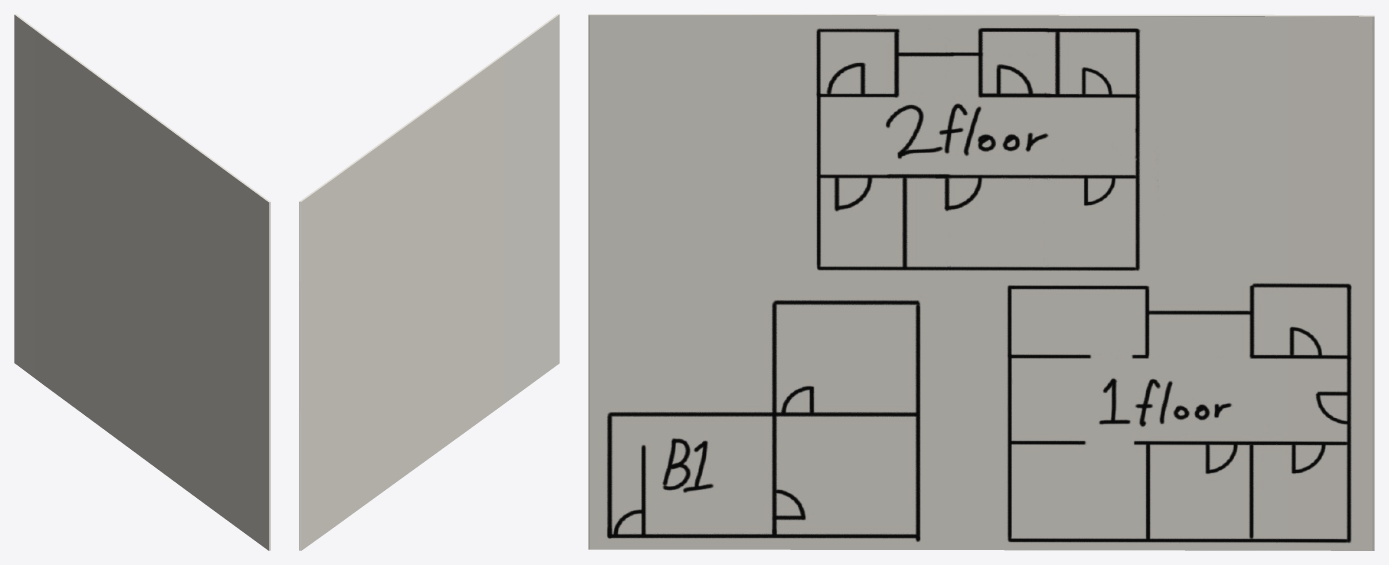
Rendered from Target Home Map.fbx.
3 views of the same model, side by side, from view 1: azimuth 30°, elevation 25°; view 2: azimuth 150°, elevation 25°; view 3: azimuth 270°, elevation 25° (orthographic). The views are drawn at different scales.
Parts seen in each view (by area): view 1: Cube; view 2: Cube; view 3: Cube.
Boxes of the visible parts, x1,y1,x2,y2 form: Cube: [14, 14, 270, 550]; Cube: [299, 14, 559, 550]; Cube: [588, 14, 1374, 550].
Bounding box in the file's own units: 3.85 × 375 × 500.
